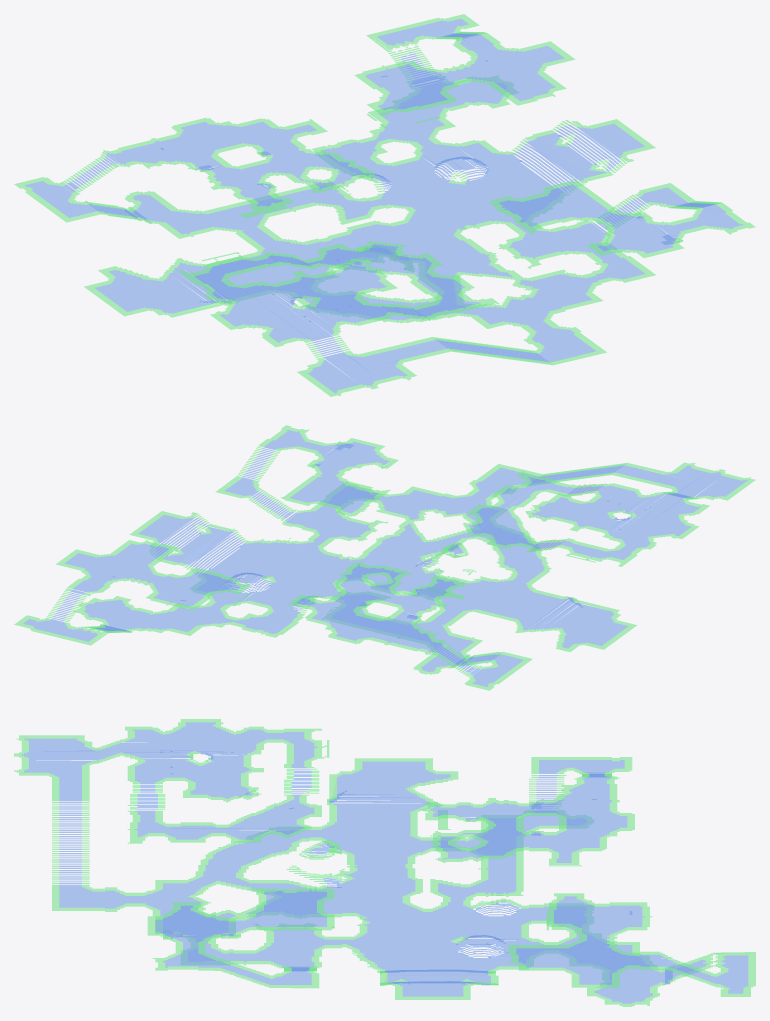
Rendered from bot_nav.glb.
3 views of the same model, one above another, from view 1: azimuth 30°, elevation 25°; view 2: azimuth 150°, elevation 25°; view 3: azimuth 270°, elevation 25° (orthographic). The views are drawn at different scales.
Parts seen in each view (by area): view 1: bot_nav_vehicle, bot_nav_robot; view 2: bot_nav_vehicle, bot_nav_robot; view 3: bot_nav_vehicle, bot_nav_robot.
Part boxes in pixels (x1,y1,x2,y2): bot_nav_vehicle: (25,19,743,393); bot_nav_robot: (14,14,755,396); bot_nav_vehicle: (23,430,747,686); bot_nav_robot: (14,425,755,690); bot_nav_vehicle: (22,722,748,1003); bot_nav_robot: (14,719,755,1006).
Bounding box in the file's own units: 248 × 21.78 × 294.
